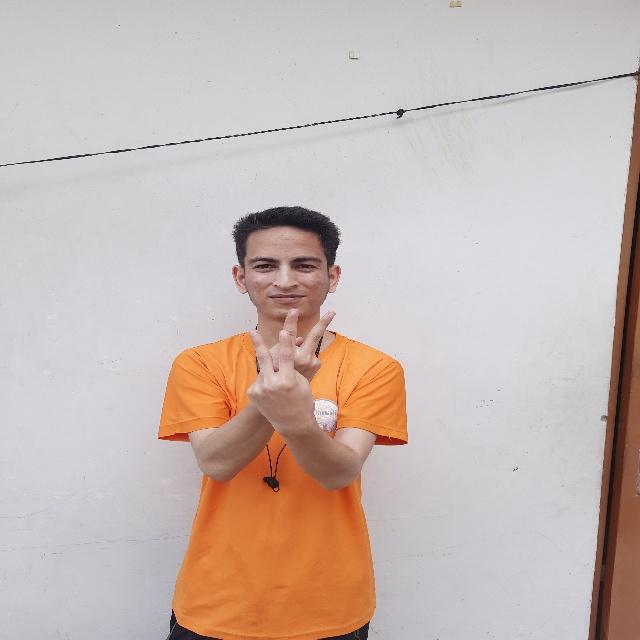Reversed Victory: (239, 322, 319, 432), (272, 298, 342, 390)
